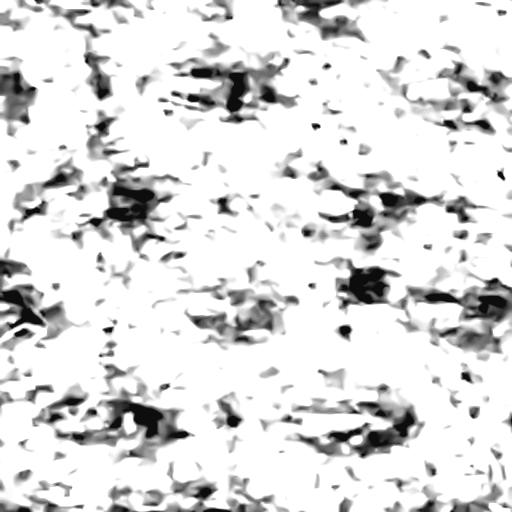egg: (226, 73, 244, 111)
